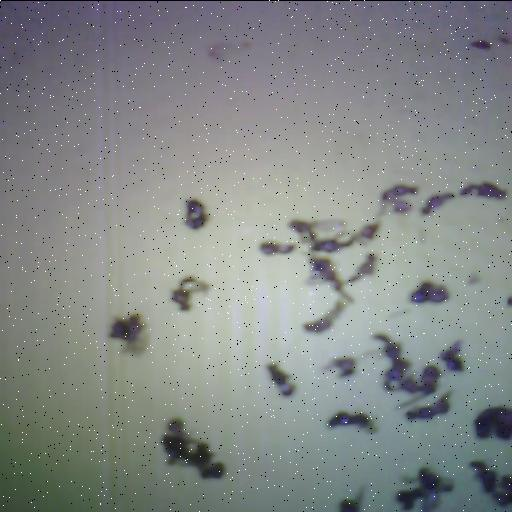Insects: (162, 419, 225, 479), (396, 468, 452, 511), (306, 257, 353, 303), (397, 366, 441, 408), (110, 314, 147, 355), (303, 300, 345, 333), (406, 391, 451, 420), (171, 277, 209, 311), (289, 220, 344, 243), (474, 407, 511, 440), (378, 185, 417, 215), (327, 412, 377, 433), (267, 364, 295, 397), (384, 357, 411, 391), (346, 254, 376, 283), (311, 233, 354, 253), (207, 42, 249, 62), (470, 462, 496, 493), (459, 182, 506, 199), (410, 282, 448, 303), (373, 334, 400, 363), (440, 341, 464, 372), (421, 193, 454, 215), (185, 200, 208, 229), (338, 487, 364, 511), (354, 220, 380, 244), (322, 358, 354, 377), (492, 475, 511, 507), (260, 242, 295, 255), (471, 41, 490, 50), (467, 273, 480, 284), (498, 36, 511, 45)
